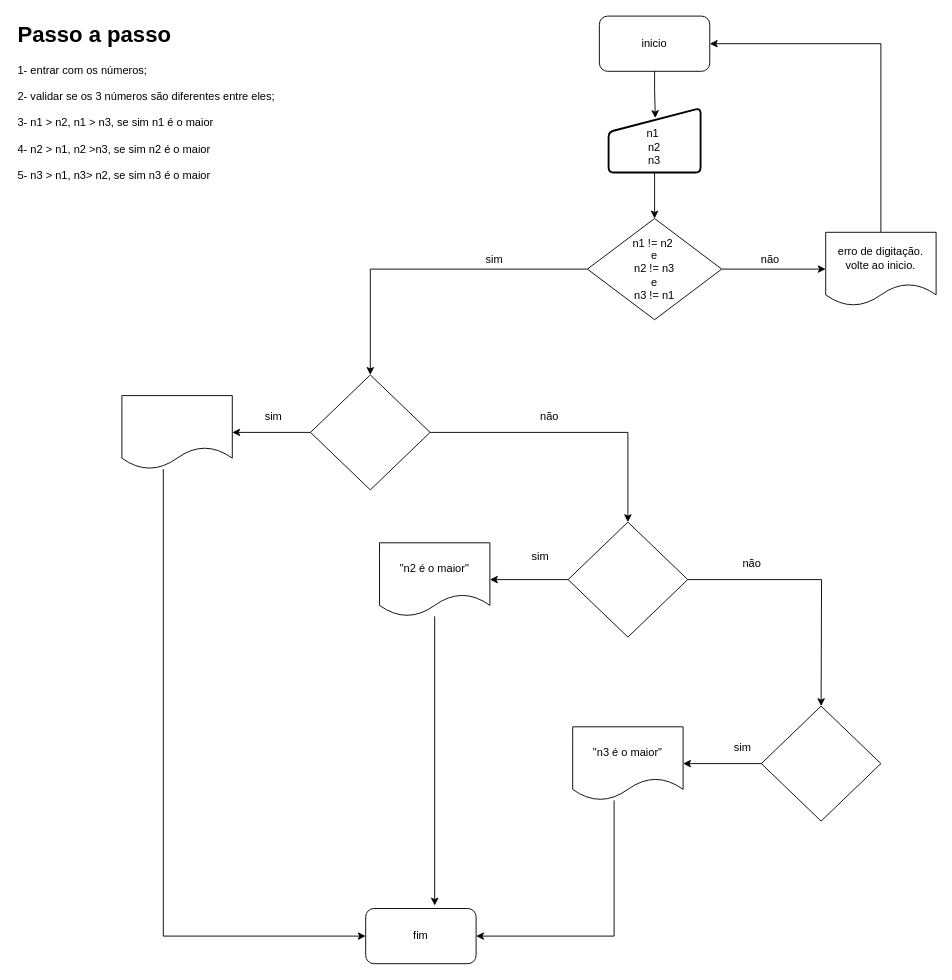
Some shapes in this 952 by 980 pixel diagram are drawn without their labels. The centre of each missing label's shape, as x and y in pixels:
"n1 é o maior": pixel 176 432
n1 > n2 e n1> n3: pixel 370 432
n2> n1 e n2> n3: pixel 627 579
n3 > n1 e n3> n2: pixel 820 763
